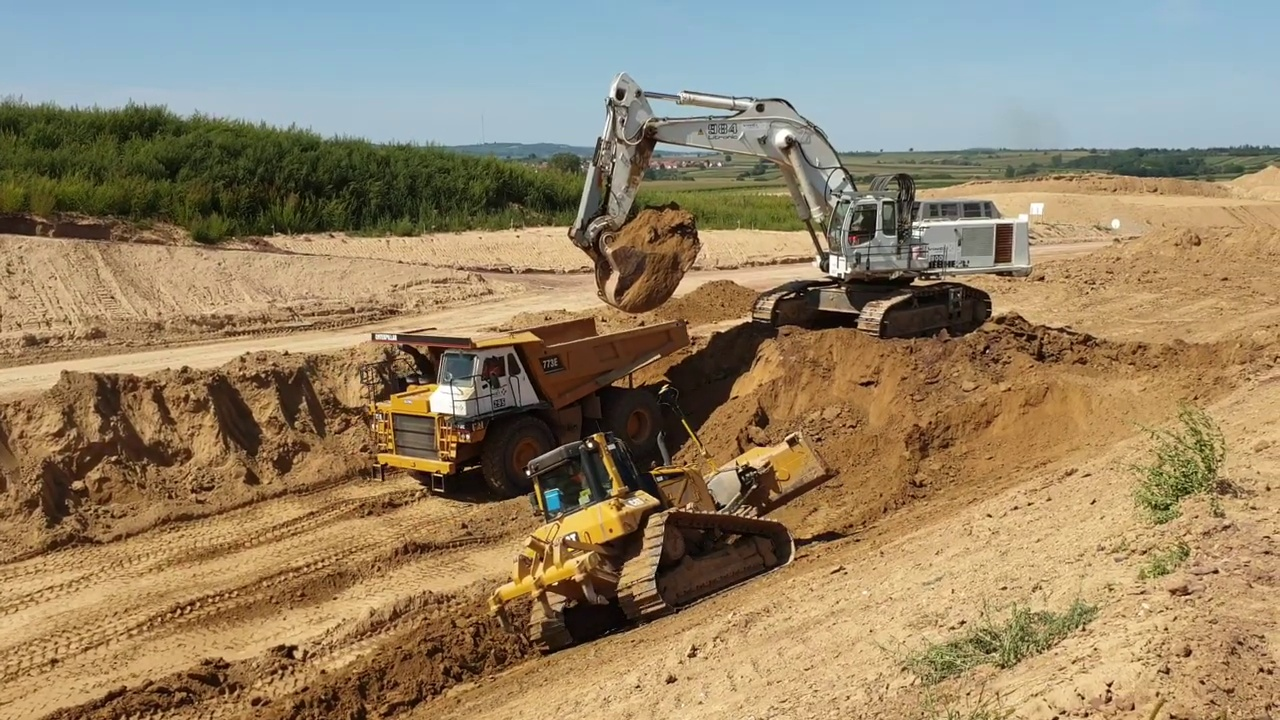bulldozer: (485, 382, 847, 659)
excavator: (564, 64, 1037, 343)
truck: (364, 312, 701, 506)
